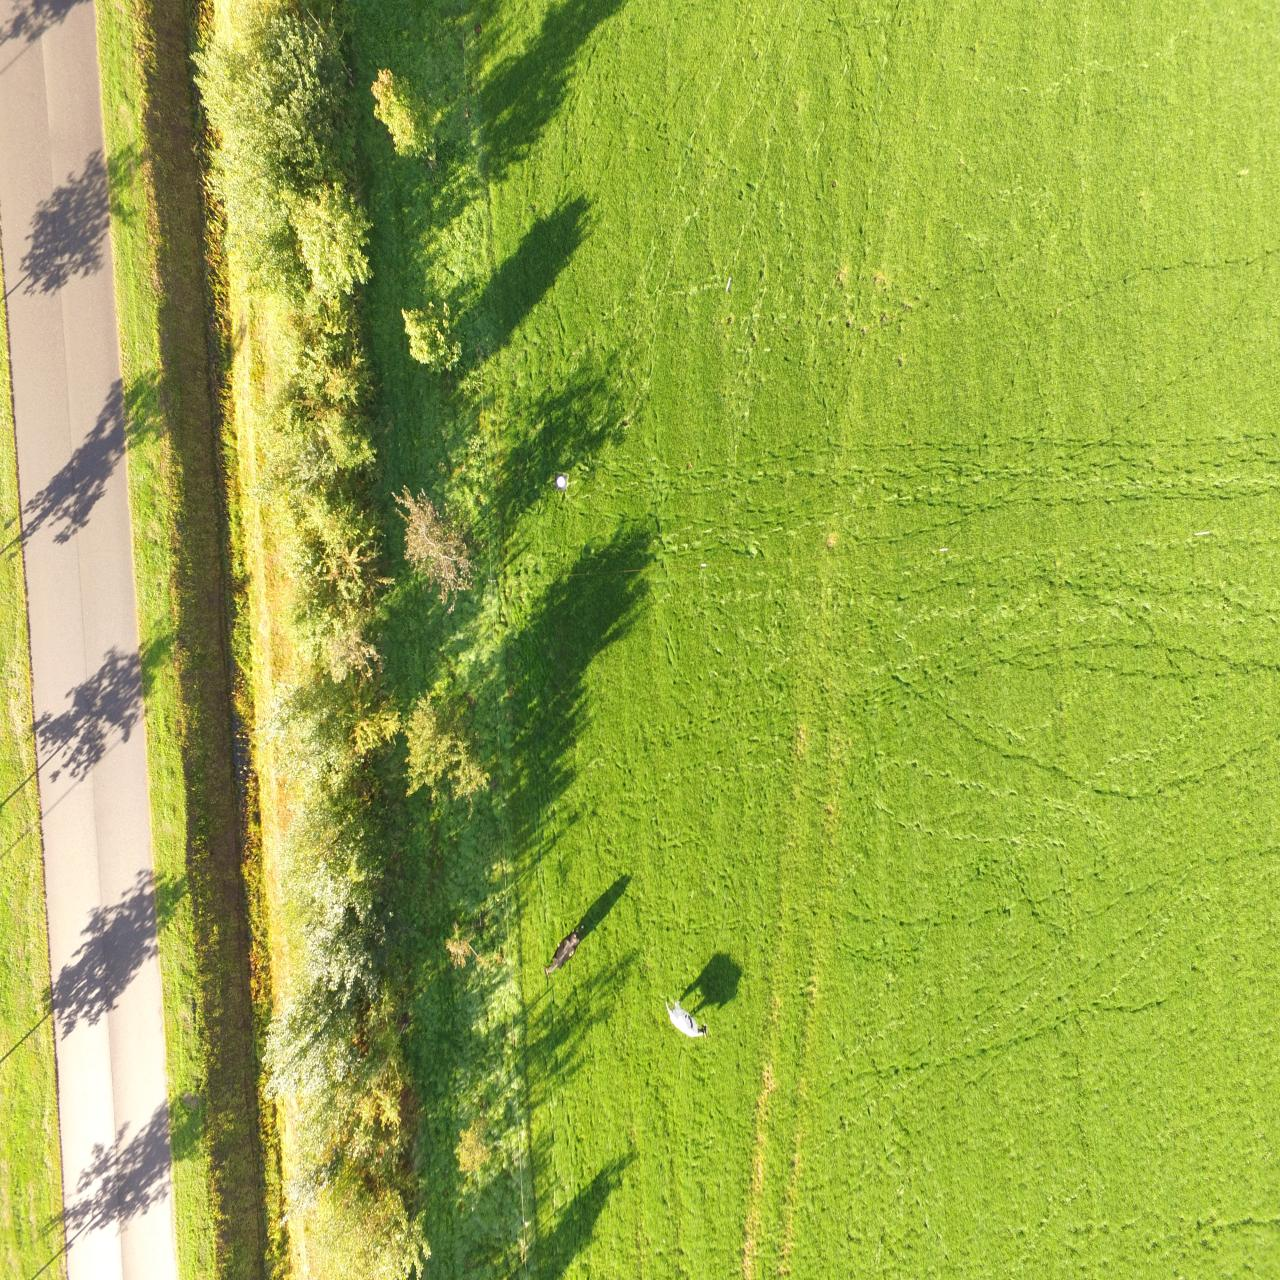cow: (542, 922, 588, 979), (665, 998, 708, 1041)
